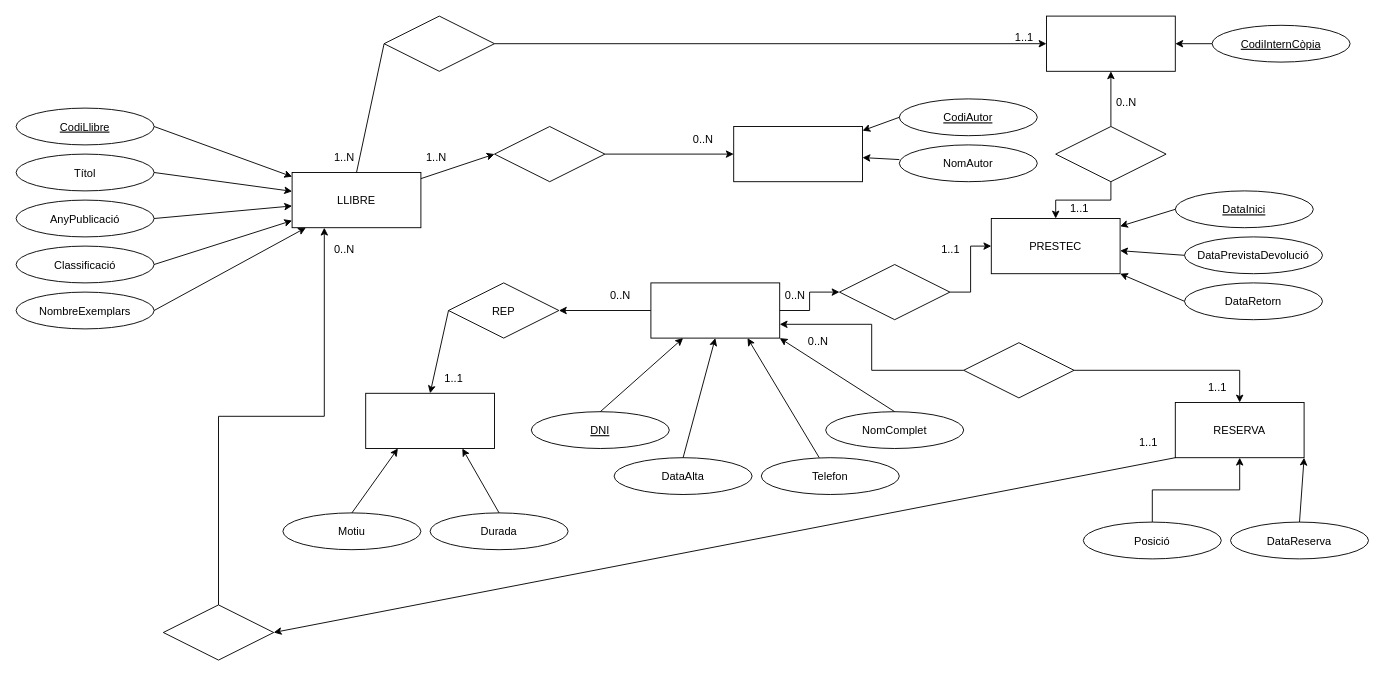
Some shapes in this 1385 by 676 pixel diagram are drawn without their labels. Here are the shapes that lost their labels. From the top down, the centre of each, then its label:
the point at 438,43: TE_EXEMPLARS
the point at 1110,43: EXEMPLAR
the point at 549,154: ESCRIU
the point at 797,154: AUTOR
the point at 1110,154: DE_EXEMPLAR
the point at 715,310: USUARI
the point at 894,292: FA
the point at 1018,370: FA_RESERVA
the point at 429,420: SANCIO
the point at 218,632: DE_LLIBRE
